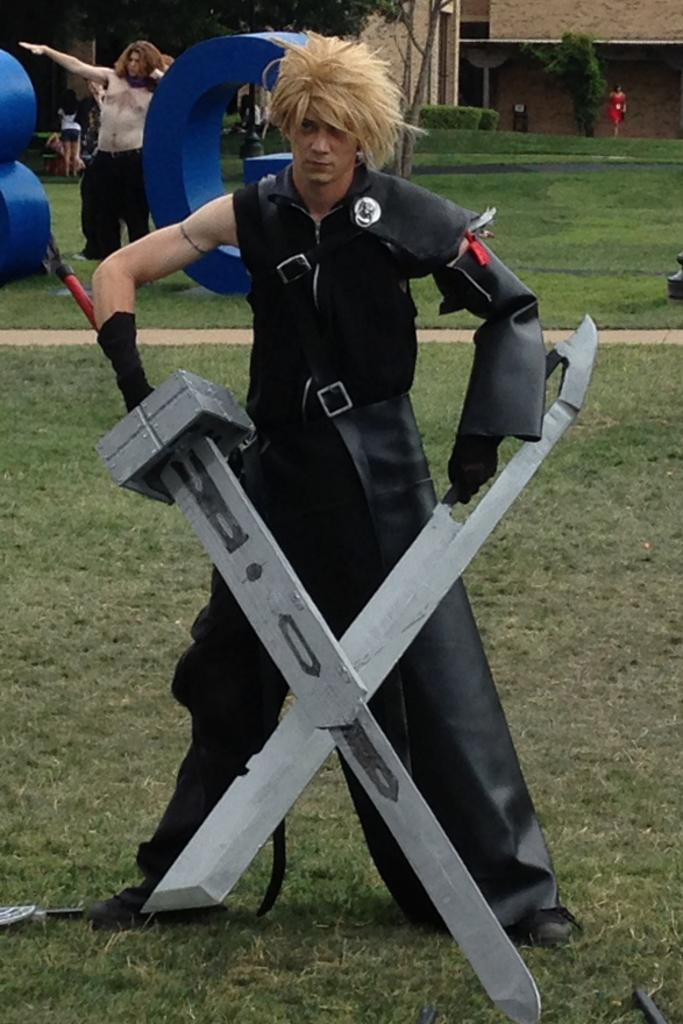Sword: (63, 264, 540, 1023)
